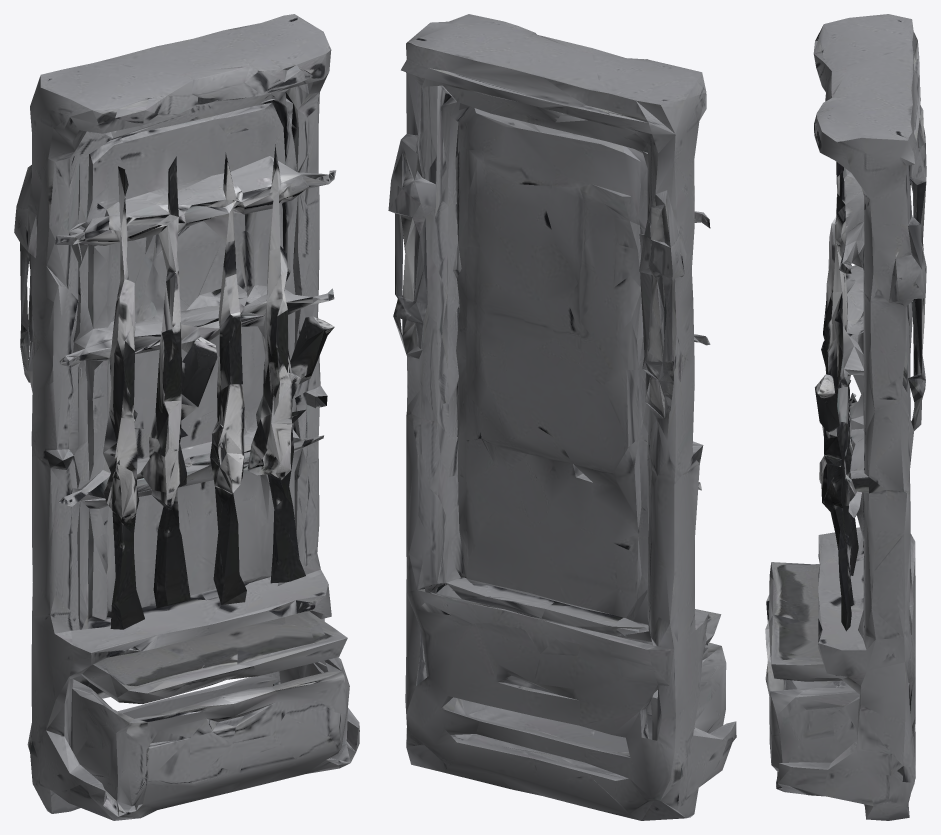
Rendered from weapons_rack.glb.
3 renders of one model, left to right at view 1: azimuth 30°, elevation 25°; view 2: azimuth 150°, elevation 25°; view 3: azimuth 270°, elevation 25°, orthographic. The views are drawn at different scales.
Parts seen in each view (by area): view 1: prop; view 2: prop; view 3: prop.
Part boxes in pixels (x1,y1,x2,y2): prop: (14, 14, 359, 820); prop: (388, 14, 736, 820); prop: (765, 14, 926, 820).
Size of the model in its own units: 0.7841 by 1.9 by 0.4069.
1 material, 1 textured.
